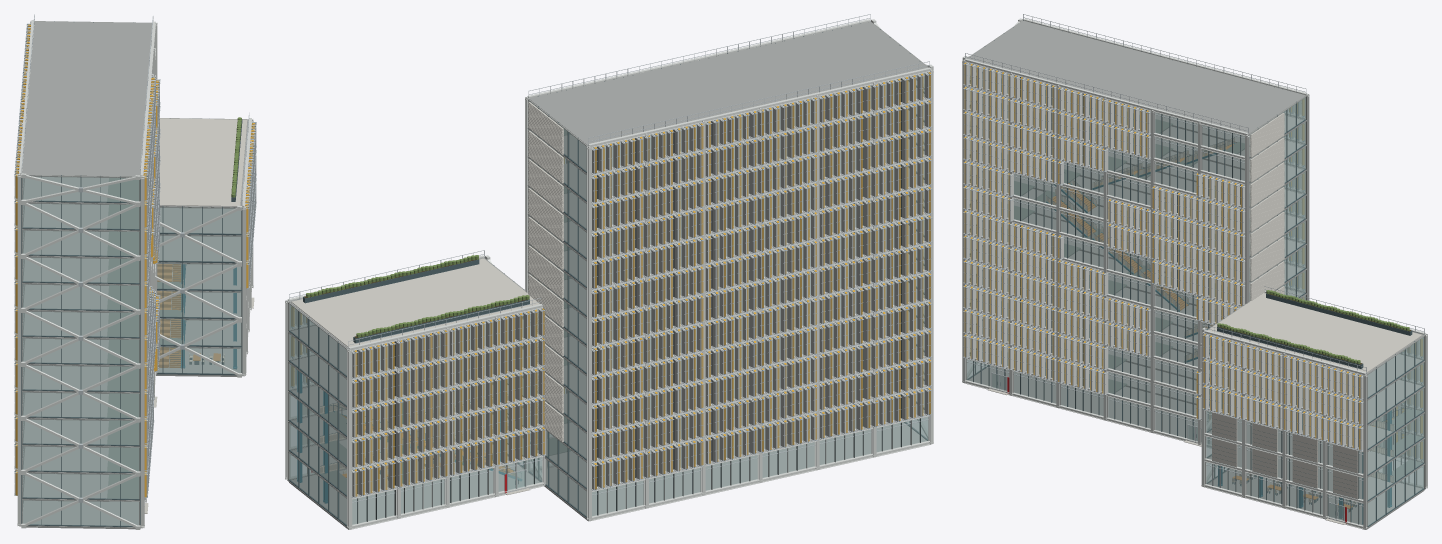
Rendered from cbg-exterior-2102bf70516d.glb.
3 views of the same model, side by side, from view 1: azimuth 30°, elevation 25°; view 2: azimuth 150°, elevation 25°; view 3: azimuth 270°, elevation 25° (orthographic). The views are drawn at different scales.
Parts seen in each view (by area): view 1: CBG.001; view 2: CBG.001; view 3: CBG.001.
Boxes of the visible parts, left/top/right/bottom form: CBG.001: left=14, top=14, right=256, bottom=529; CBG.001: left=285, top=14, right=933, bottom=529; CBG.001: left=962, top=14, right=1427, bottom=529.
Bounding box in the file's own units: 66.1 × 53.56 × 68.49.
